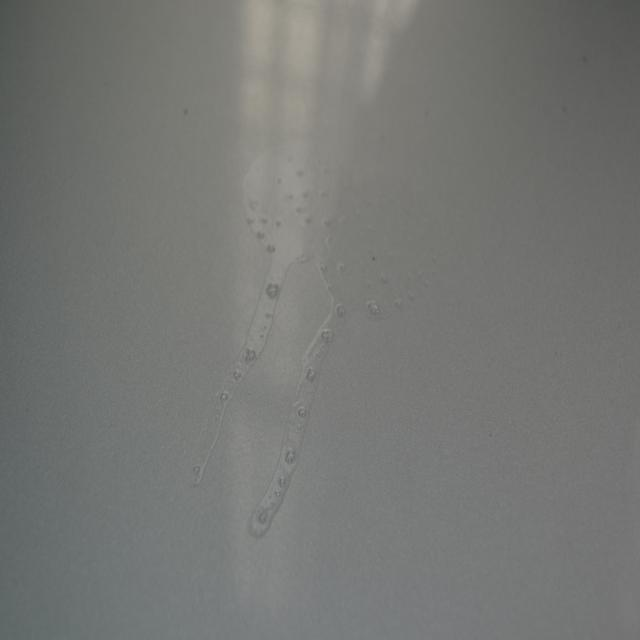dirt: (579, 49, 590, 69), (558, 101, 570, 116), (181, 104, 189, 120)
runs: (188, 144, 436, 535)
